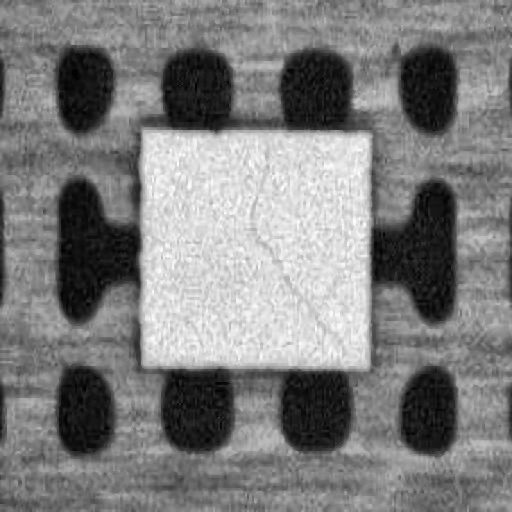DIE_CRACK: (247, 146, 340, 347)
